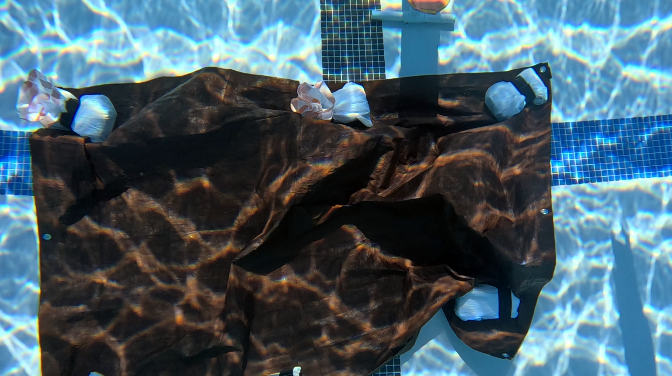pathmarker: (408, 0, 448, 12)
sandbag: (16, 63, 555, 375)
